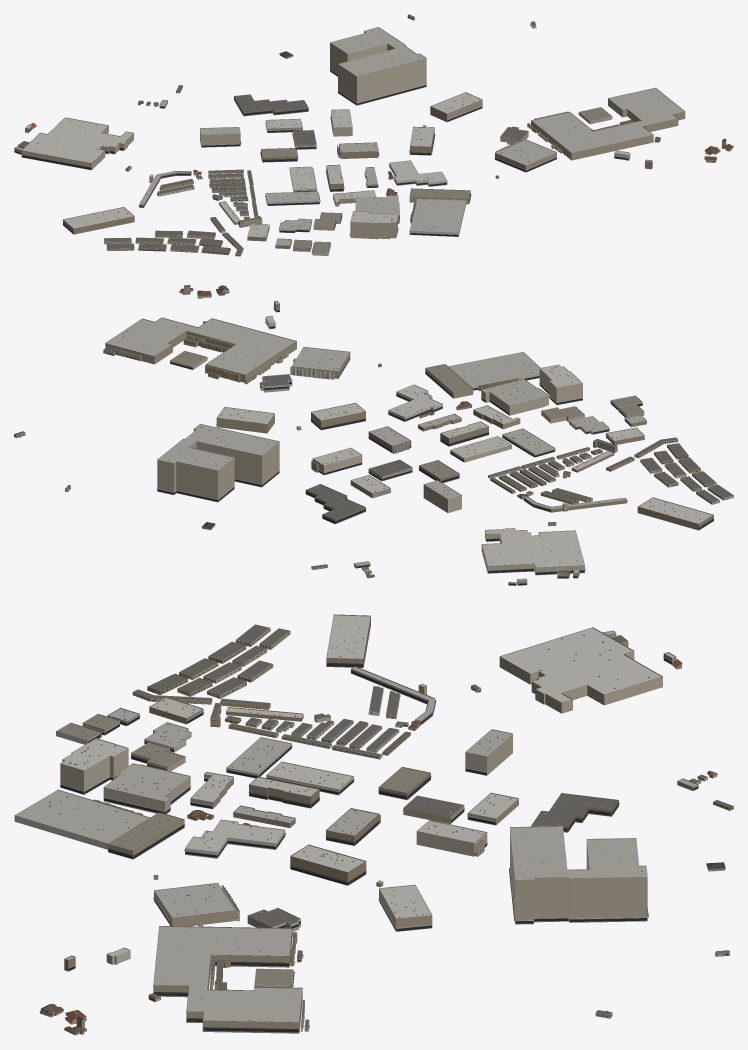
3 renders of one model, top to bottom at view 1: azimuth 30°, elevation 25°; view 2: azimuth 150°, elevation 25°; view 3: azimuth 270°, elevation 25°, orthographic. The views are drawn at different scales.
Parts seen in each view (by area): view 1: buildings_r4_c6_lod0; view 2: buildings_r4_c6_lod0; view 3: buildings_r4_c6_lod0.
Boxes of the visible parts, x1,y1,x2,y2 form: buildings_r4_c6_lod0: [14, 14, 733, 256]; buildings_r4_c6_lod0: [14, 285, 733, 585]; buildings_r4_c6_lod0: [14, 614, 733, 1035].
Bounding box in the file's own units: 1173 × 77.4 × 836.
